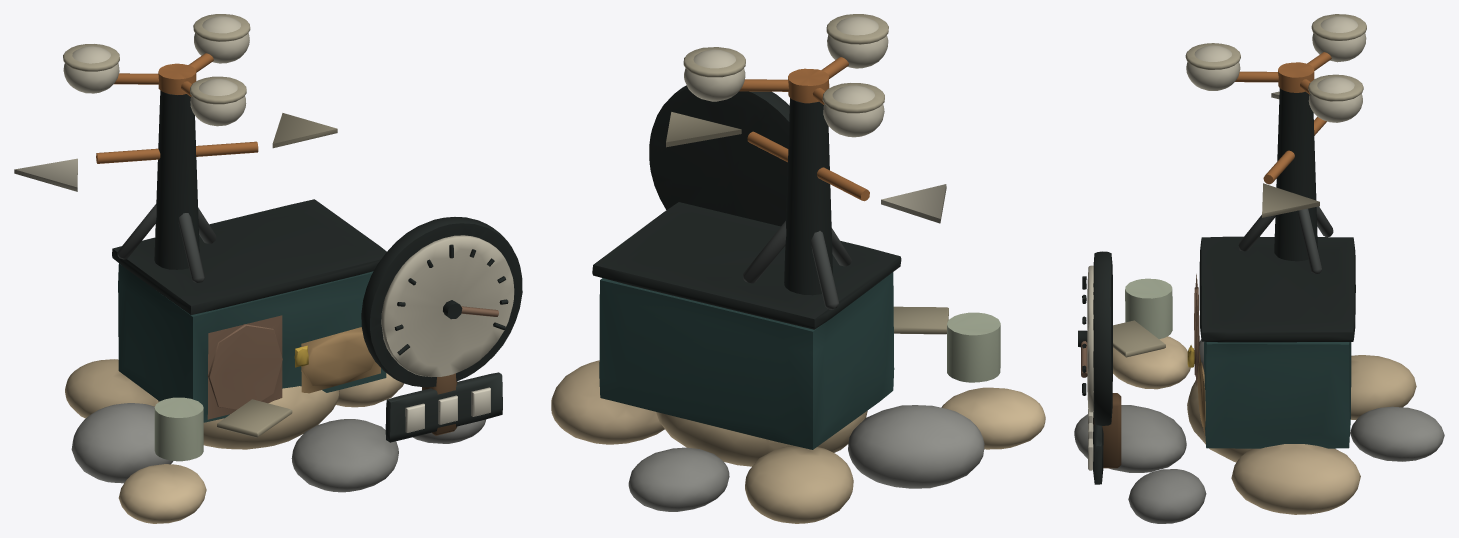
The model's file is storm_station_a_lod1.glb.
The picture shows the model from 3 angles, left to right: view 1: azimuth 30°, elevation 25°; view 2: azimuth 150°, elevation 25°; view 3: azimuth 270°, elevation 25°; orthographic projection. The views are drawn at different scales.
Parts seen in each view (by area): view 1: Surface.001; view 2: Surface.001; view 3: Surface.001.
Part boxes in pixels (left/top/right/bottom): Surface.001: left=14, top=14, right=522, bottom=523; Surface.001: left=551, top=14, right=1045, bottom=523; Surface.001: left=1074, top=14, right=1444, bottom=523.
Bounding box in the file's own units: 4.66 × 4.52 × 4.02.
